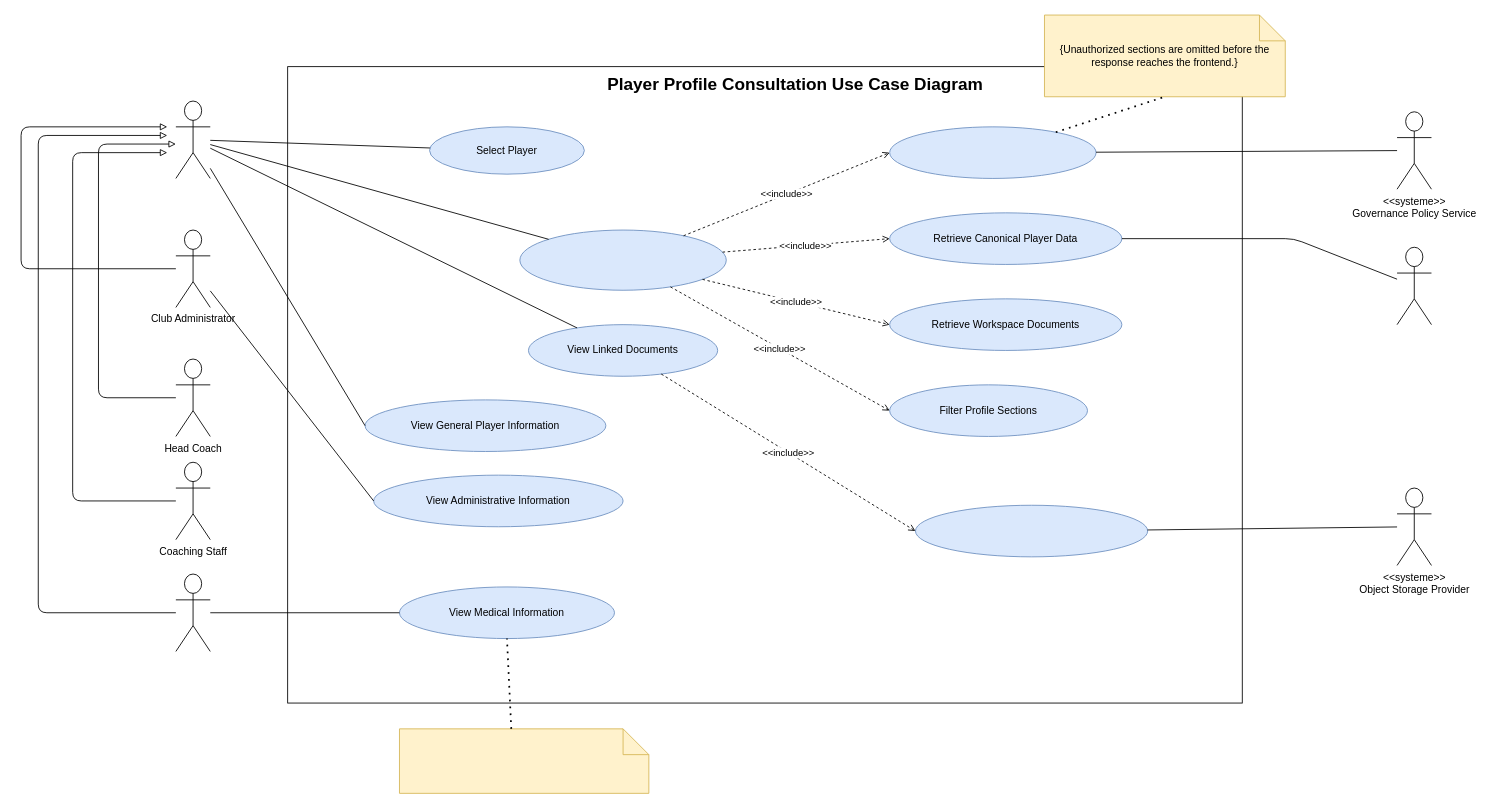
Image size: 1501x808. Some labels were removed from this diagram. Each missing label, with the centre of its shape:
<<systeme>> Canonical Player Data Provider: the point at 1413,285
Authenticated User: the point at 192,139
Check Profile Permissions: the point at 992,152
Consult Player Profile: the point at 622,259
Download Authorized Document: the point at 1031,530
Medical Staff: the point at 192,612
{Medical information is visible only to Medical Staff.}: the point at 524,760
